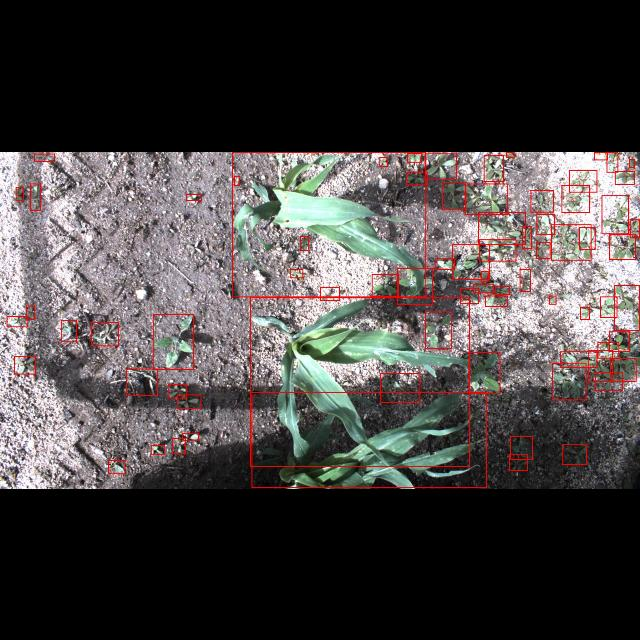crop: (250, 298, 470, 467), (232, 152, 426, 296), (252, 392, 486, 488)
weed: (152, 314, 194, 368), (478, 212, 526, 244), (551, 224, 591, 260), (464, 182, 508, 214), (552, 362, 586, 400), (452, 244, 490, 278), (468, 352, 499, 392), (398, 268, 432, 304), (380, 372, 420, 402), (614, 284, 640, 330), (424, 310, 452, 348), (602, 195, 628, 233), (126, 368, 158, 396), (562, 184, 590, 212), (426, 152, 456, 178), (589, 349, 613, 381), (480, 240, 516, 260), (442, 182, 466, 208), (92, 322, 118, 346), (610, 234, 636, 258), (569, 169, 597, 191), (561, 351, 597, 367), (372, 274, 398, 296), (610, 358, 636, 380), (530, 189, 554, 211), (484, 154, 504, 180), (510, 436, 532, 458), (563, 444, 587, 464), (596, 372, 622, 390), (609, 331, 629, 351), (14, 356, 36, 374), (600, 296, 618, 316), (537, 213, 555, 233), (579, 227, 595, 249), (61, 321, 77, 342), (598, 342, 618, 358), (178, 394, 200, 408), (509, 454, 527, 470), (320, 286, 340, 300), (30, 182, 40, 210), (407, 170, 428, 183), (461, 288, 479, 302), (168, 384, 186, 398), (606, 151, 618, 171), (616, 170, 634, 183), (536, 242, 550, 258), (109, 460, 125, 474), (485, 295, 507, 305), (520, 269, 530, 291), (522, 226, 532, 248), (172, 438, 185, 454), (7, 316, 27, 326), (436, 258, 454, 268), (630, 219, 640, 237), (473, 284, 493, 292), (34, 153, 54, 161), (300, 236, 310, 250), (407, 152, 421, 162), (183, 432, 199, 440), (152, 445, 164, 455), (580, 307, 590, 319), (27, 305, 35, 319), (496, 286, 510, 294), (594, 151, 608, 159), (16, 187, 24, 200), (290, 269, 302, 277), (186, 194, 202, 200), (379, 157, 387, 166), (482, 271, 488, 281), (550, 295, 556, 303), (234, 176, 240, 184), (630, 158, 634, 166), (506, 152, 514, 156)
